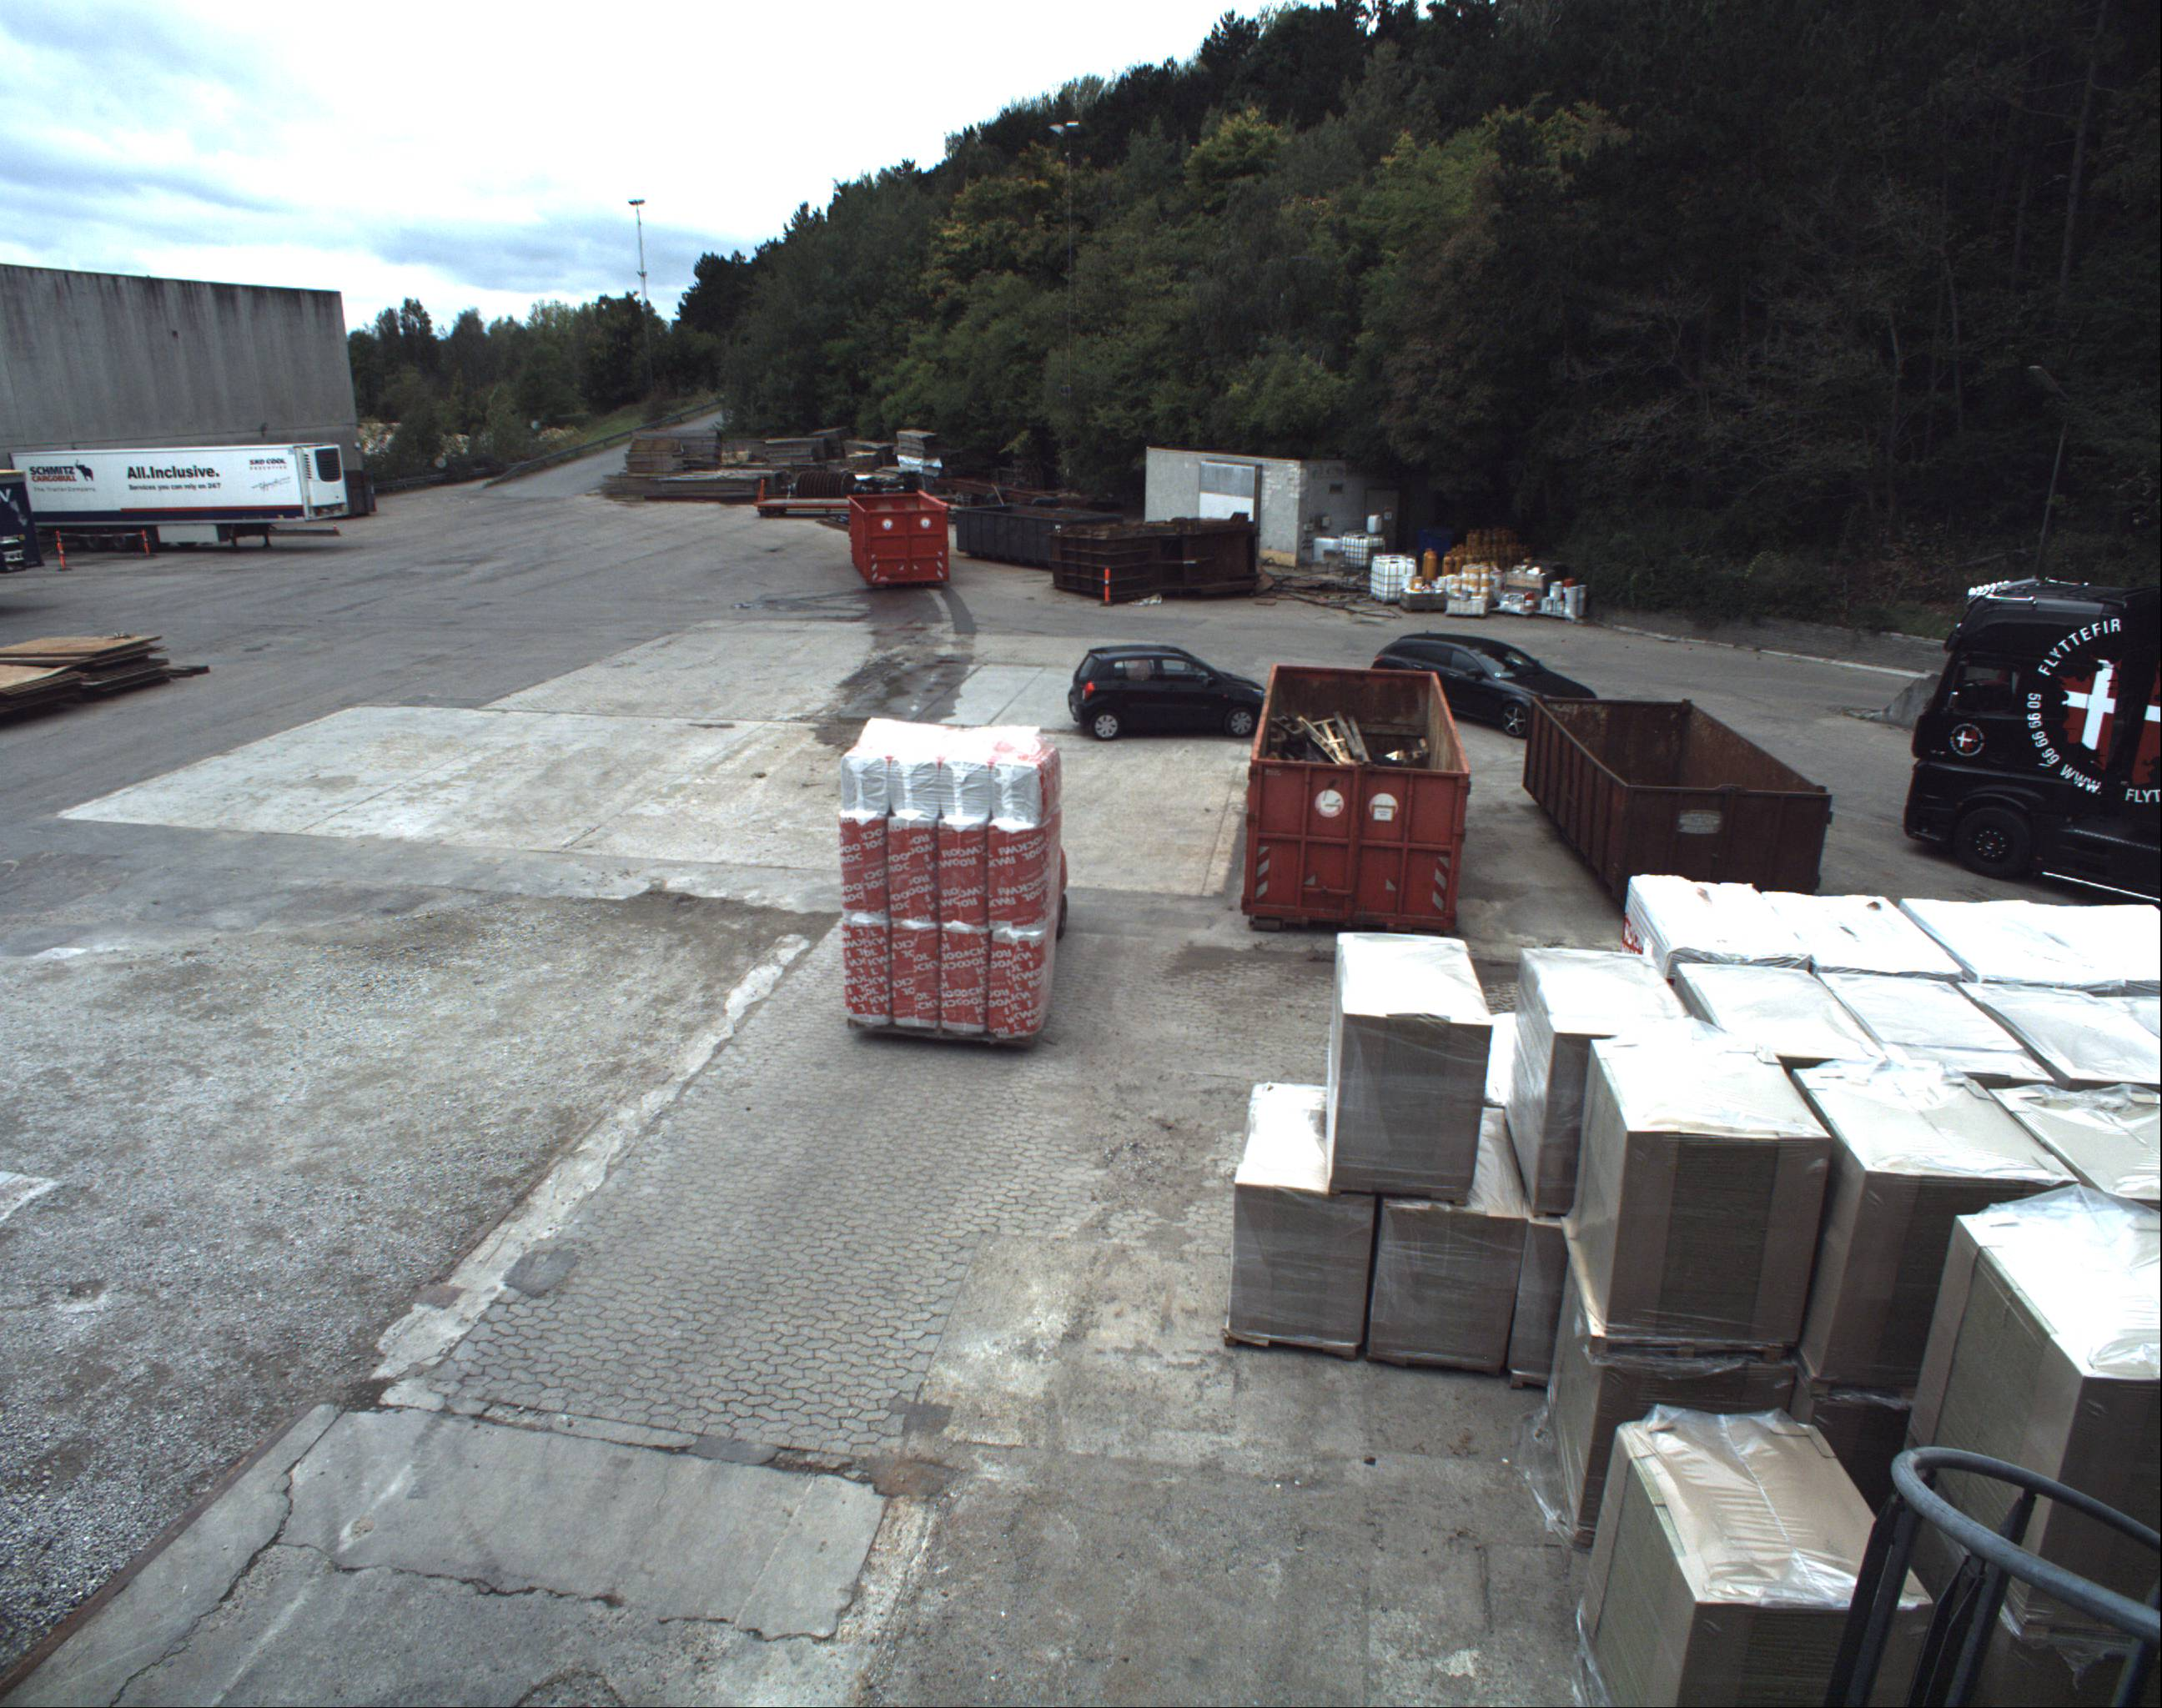rockwool_batts: (841, 709, 1065, 1034)
